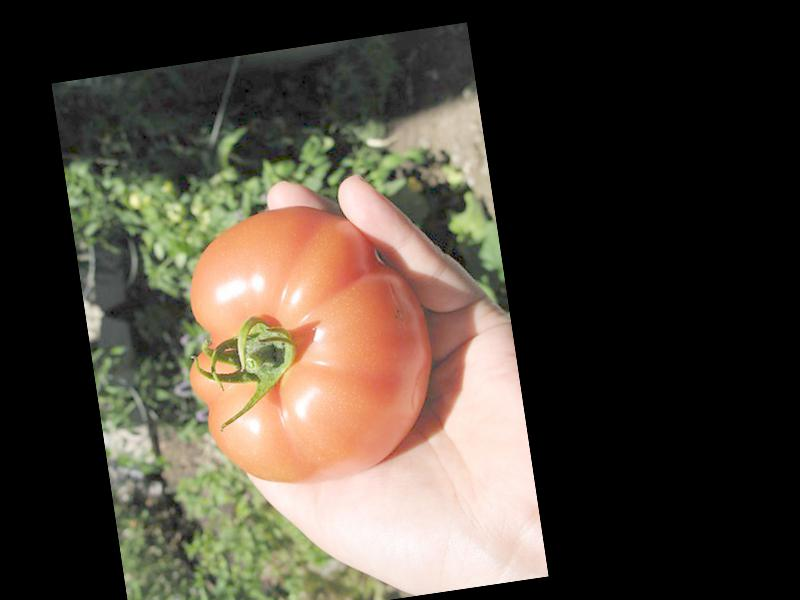Tomato: (167, 189, 443, 496)
